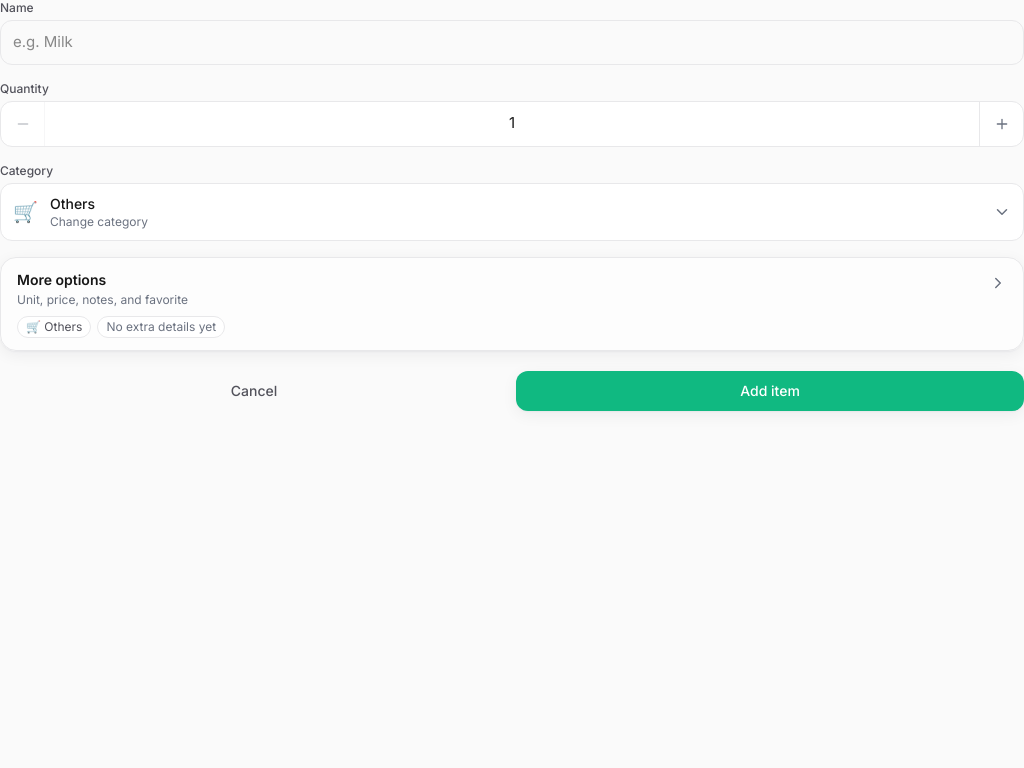
Test: ItemEditor progressive disclosure › keeps category picker collapsed by default and opens it on demand
Step 1. Click the button with test id "item-editor-category-button" → (73, 203), box [0,182,1023,240]
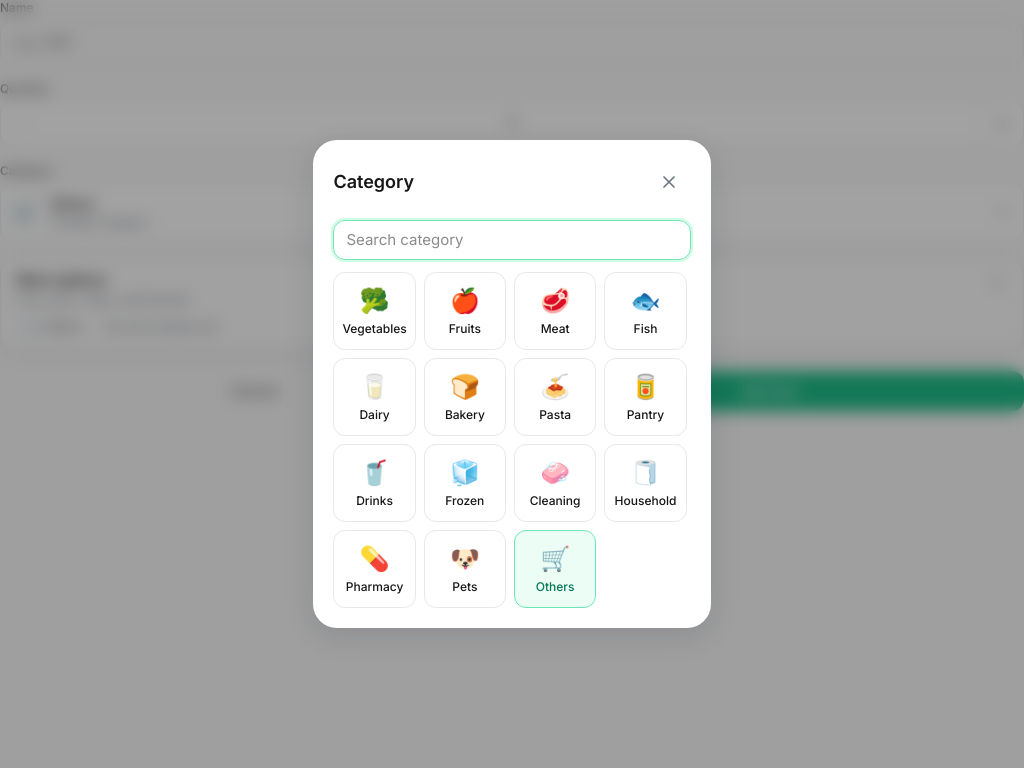
Result: the element with test id "item-editor-category-picker" is shown at [333,220,691,608]
